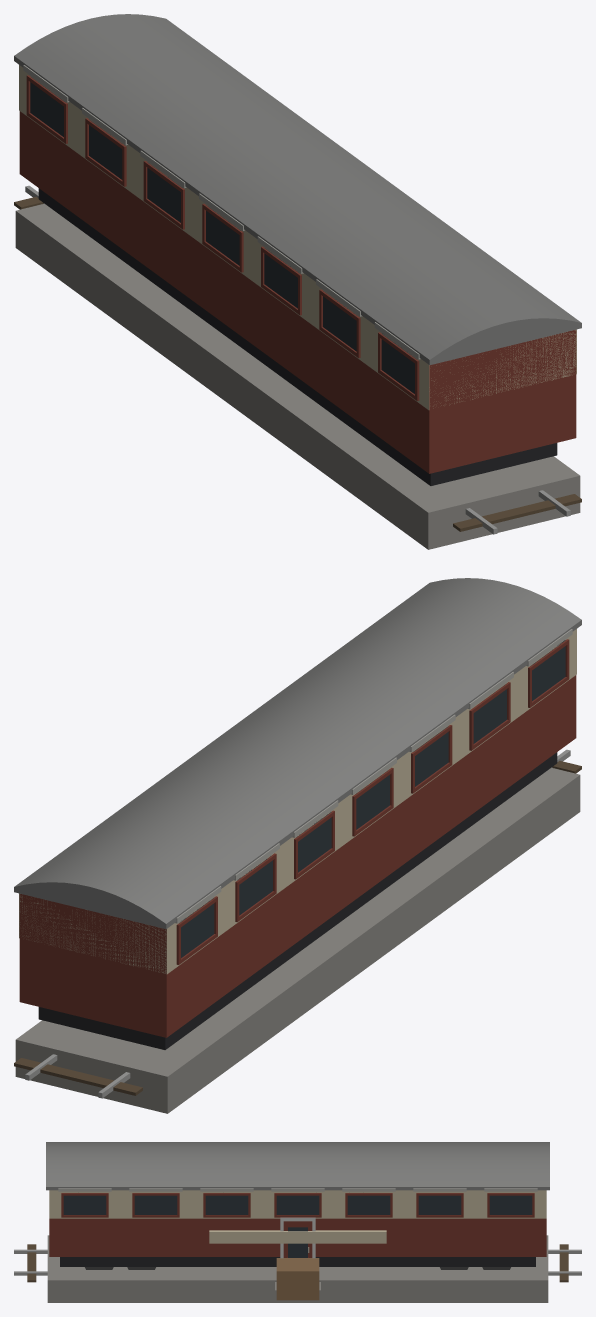
Rendered from SM_Prop_cafe_building_5.glb.
The picture shows the model from 3 angles, top to bottom: view 1: azimuth 30°, elevation 25°; view 2: azimuth 150°, elevation 25°; view 3: azimuth 270°, elevation 25°; orthographic projection. The views are drawn at different scales.
Visible parts, largest first — view 1: SM_Prop_cafe_building_5; view 2: SM_Prop_cafe_building_5; view 3: SM_Prop_cafe_building_5.
Part boxes in pixels (x1,y1,x2,y2): SM_Prop_cafe_building_5: (14, 14, 581, 549); SM_Prop_cafe_building_5: (14, 578, 581, 1113); SM_Prop_cafe_building_5: (14, 1142, 581, 1302).
Size of the model in its own units: 3.92 by 3.95 by 16.
